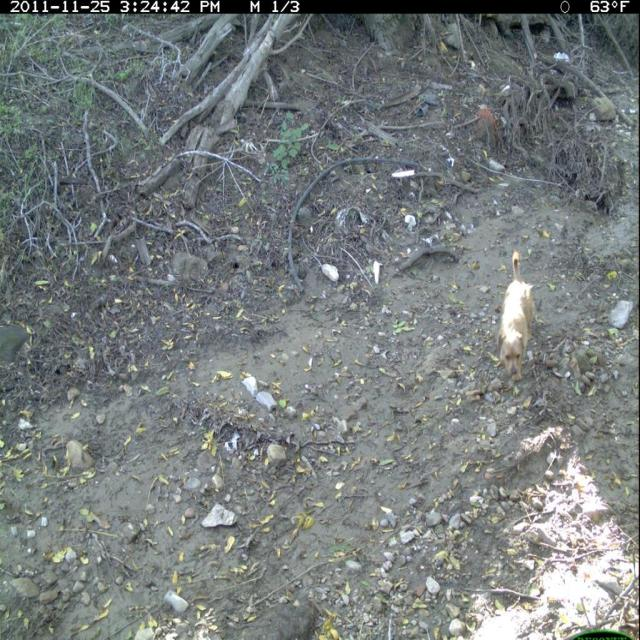dog: (495, 248, 538, 398)
